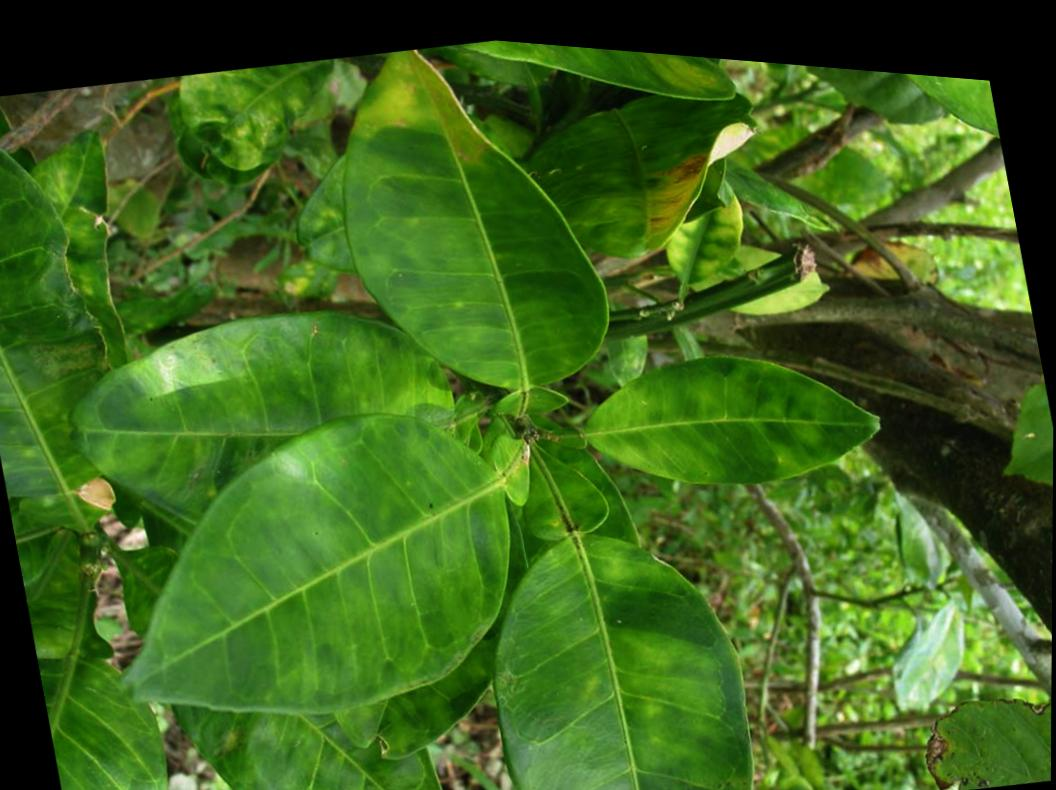Citrus Greening: (57, 254, 517, 656), (70, 365, 541, 757), (302, 19, 619, 423), (454, 477, 776, 790), (585, 322, 887, 507), (167, 645, 473, 790), (0, 115, 111, 507), (32, 615, 186, 790), (654, 173, 747, 283)
